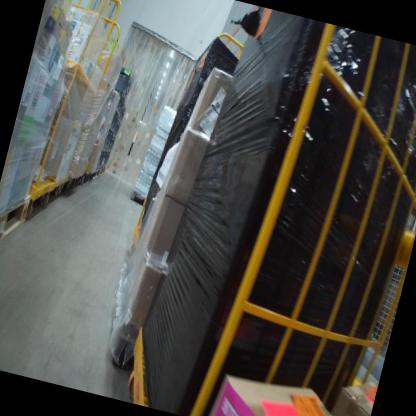pallet: (95, 263, 160, 363), (0, 187, 32, 266), (128, 185, 153, 209), (78, 166, 97, 190), (92, 166, 102, 184), (100, 164, 107, 178)
